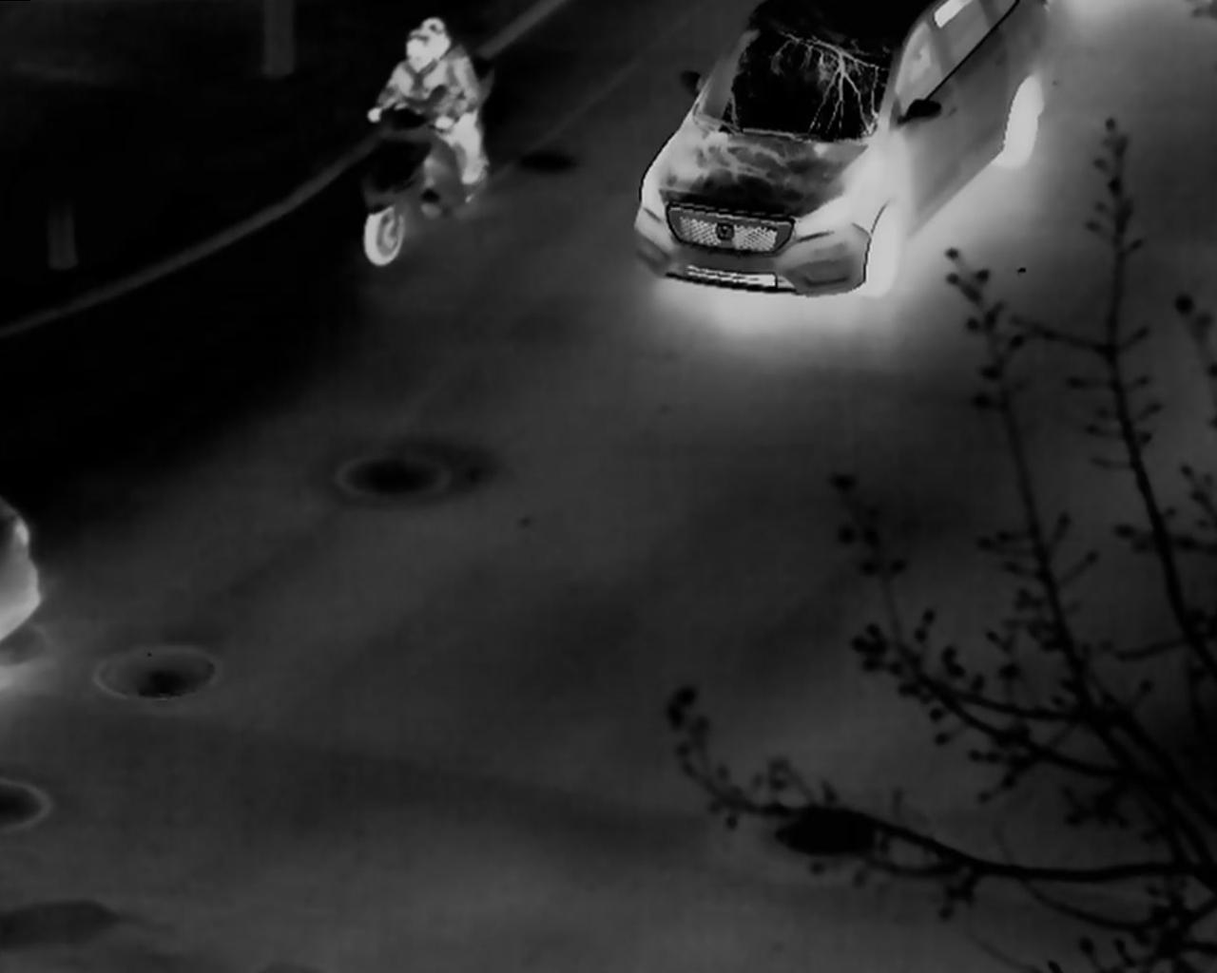person: (375, 17, 495, 183), (364, 28, 458, 135)
